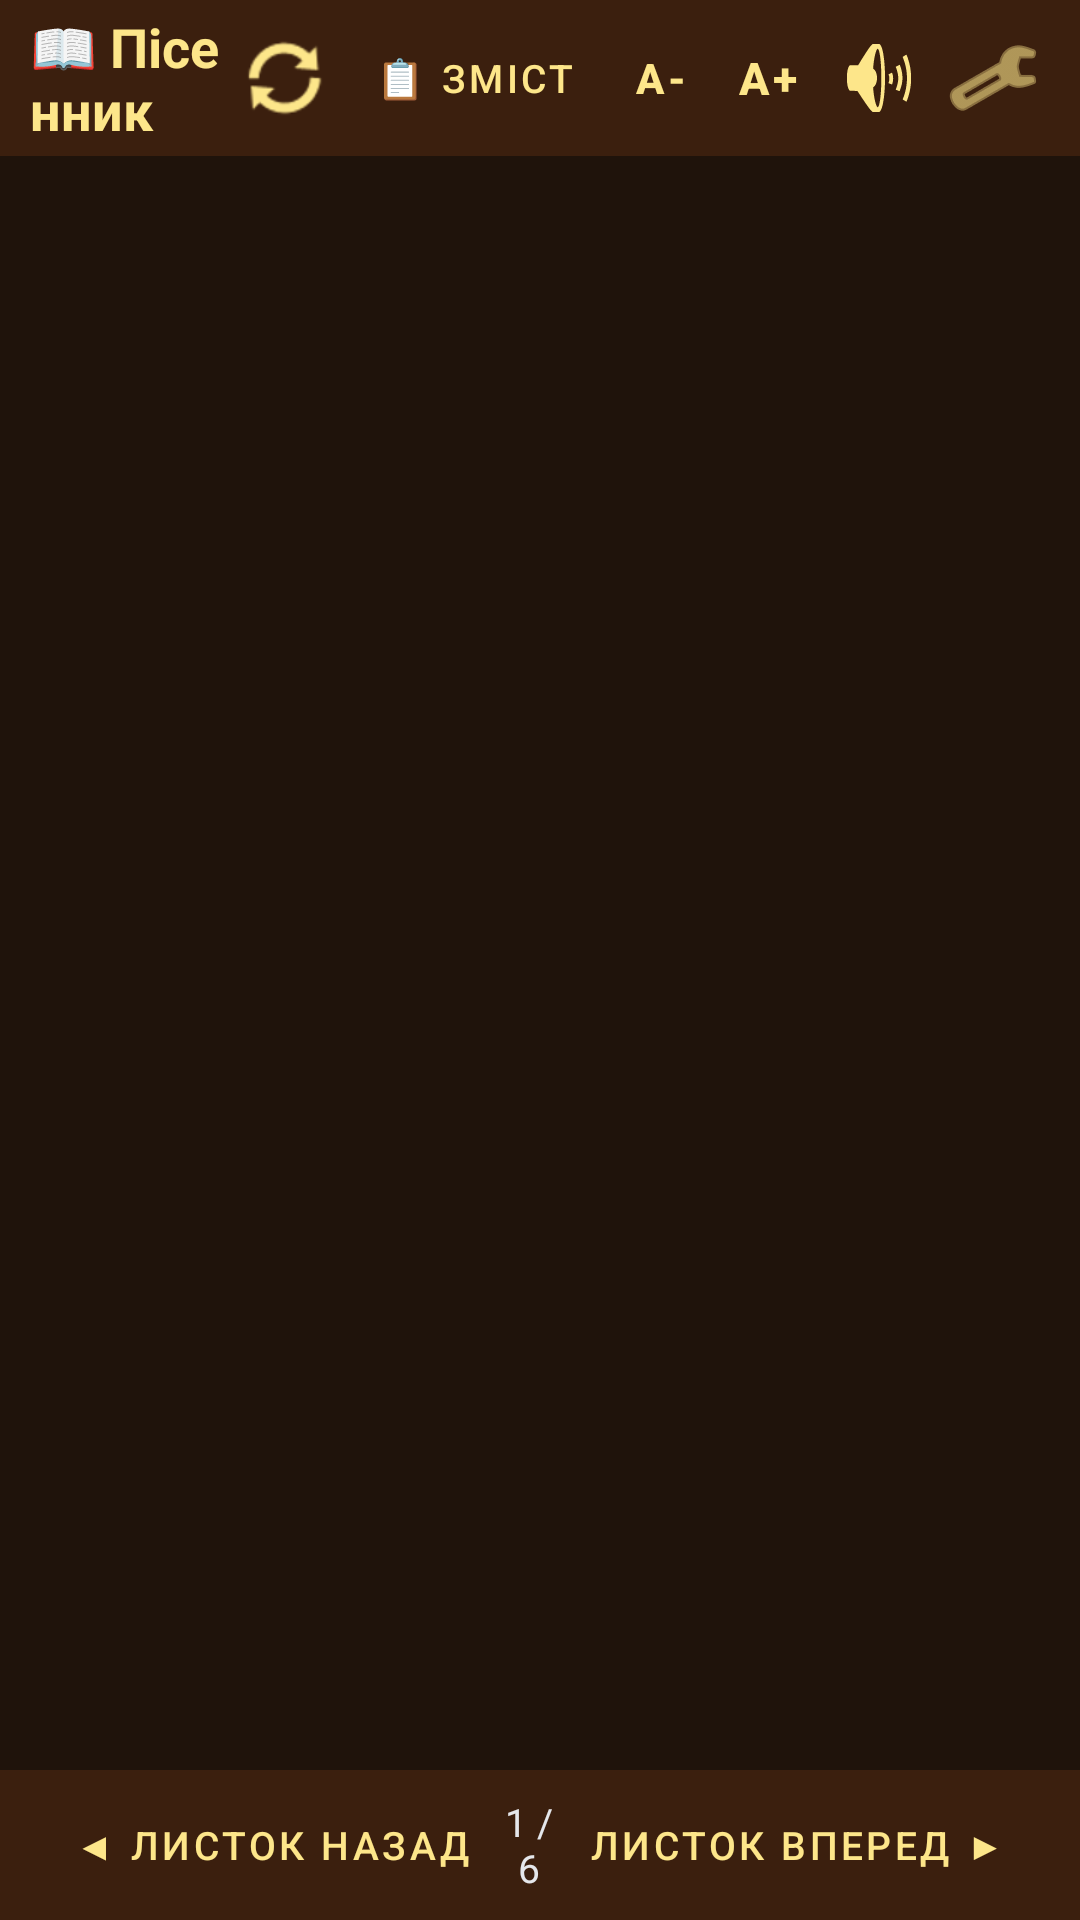

Point at icon controls on the screen. Image size 1080 x 1920, points as point (x, y).
Налаштування: point (993, 78)
Оновити з GitHub: point (285, 78)
Шелест увімкнено: point (879, 78)
